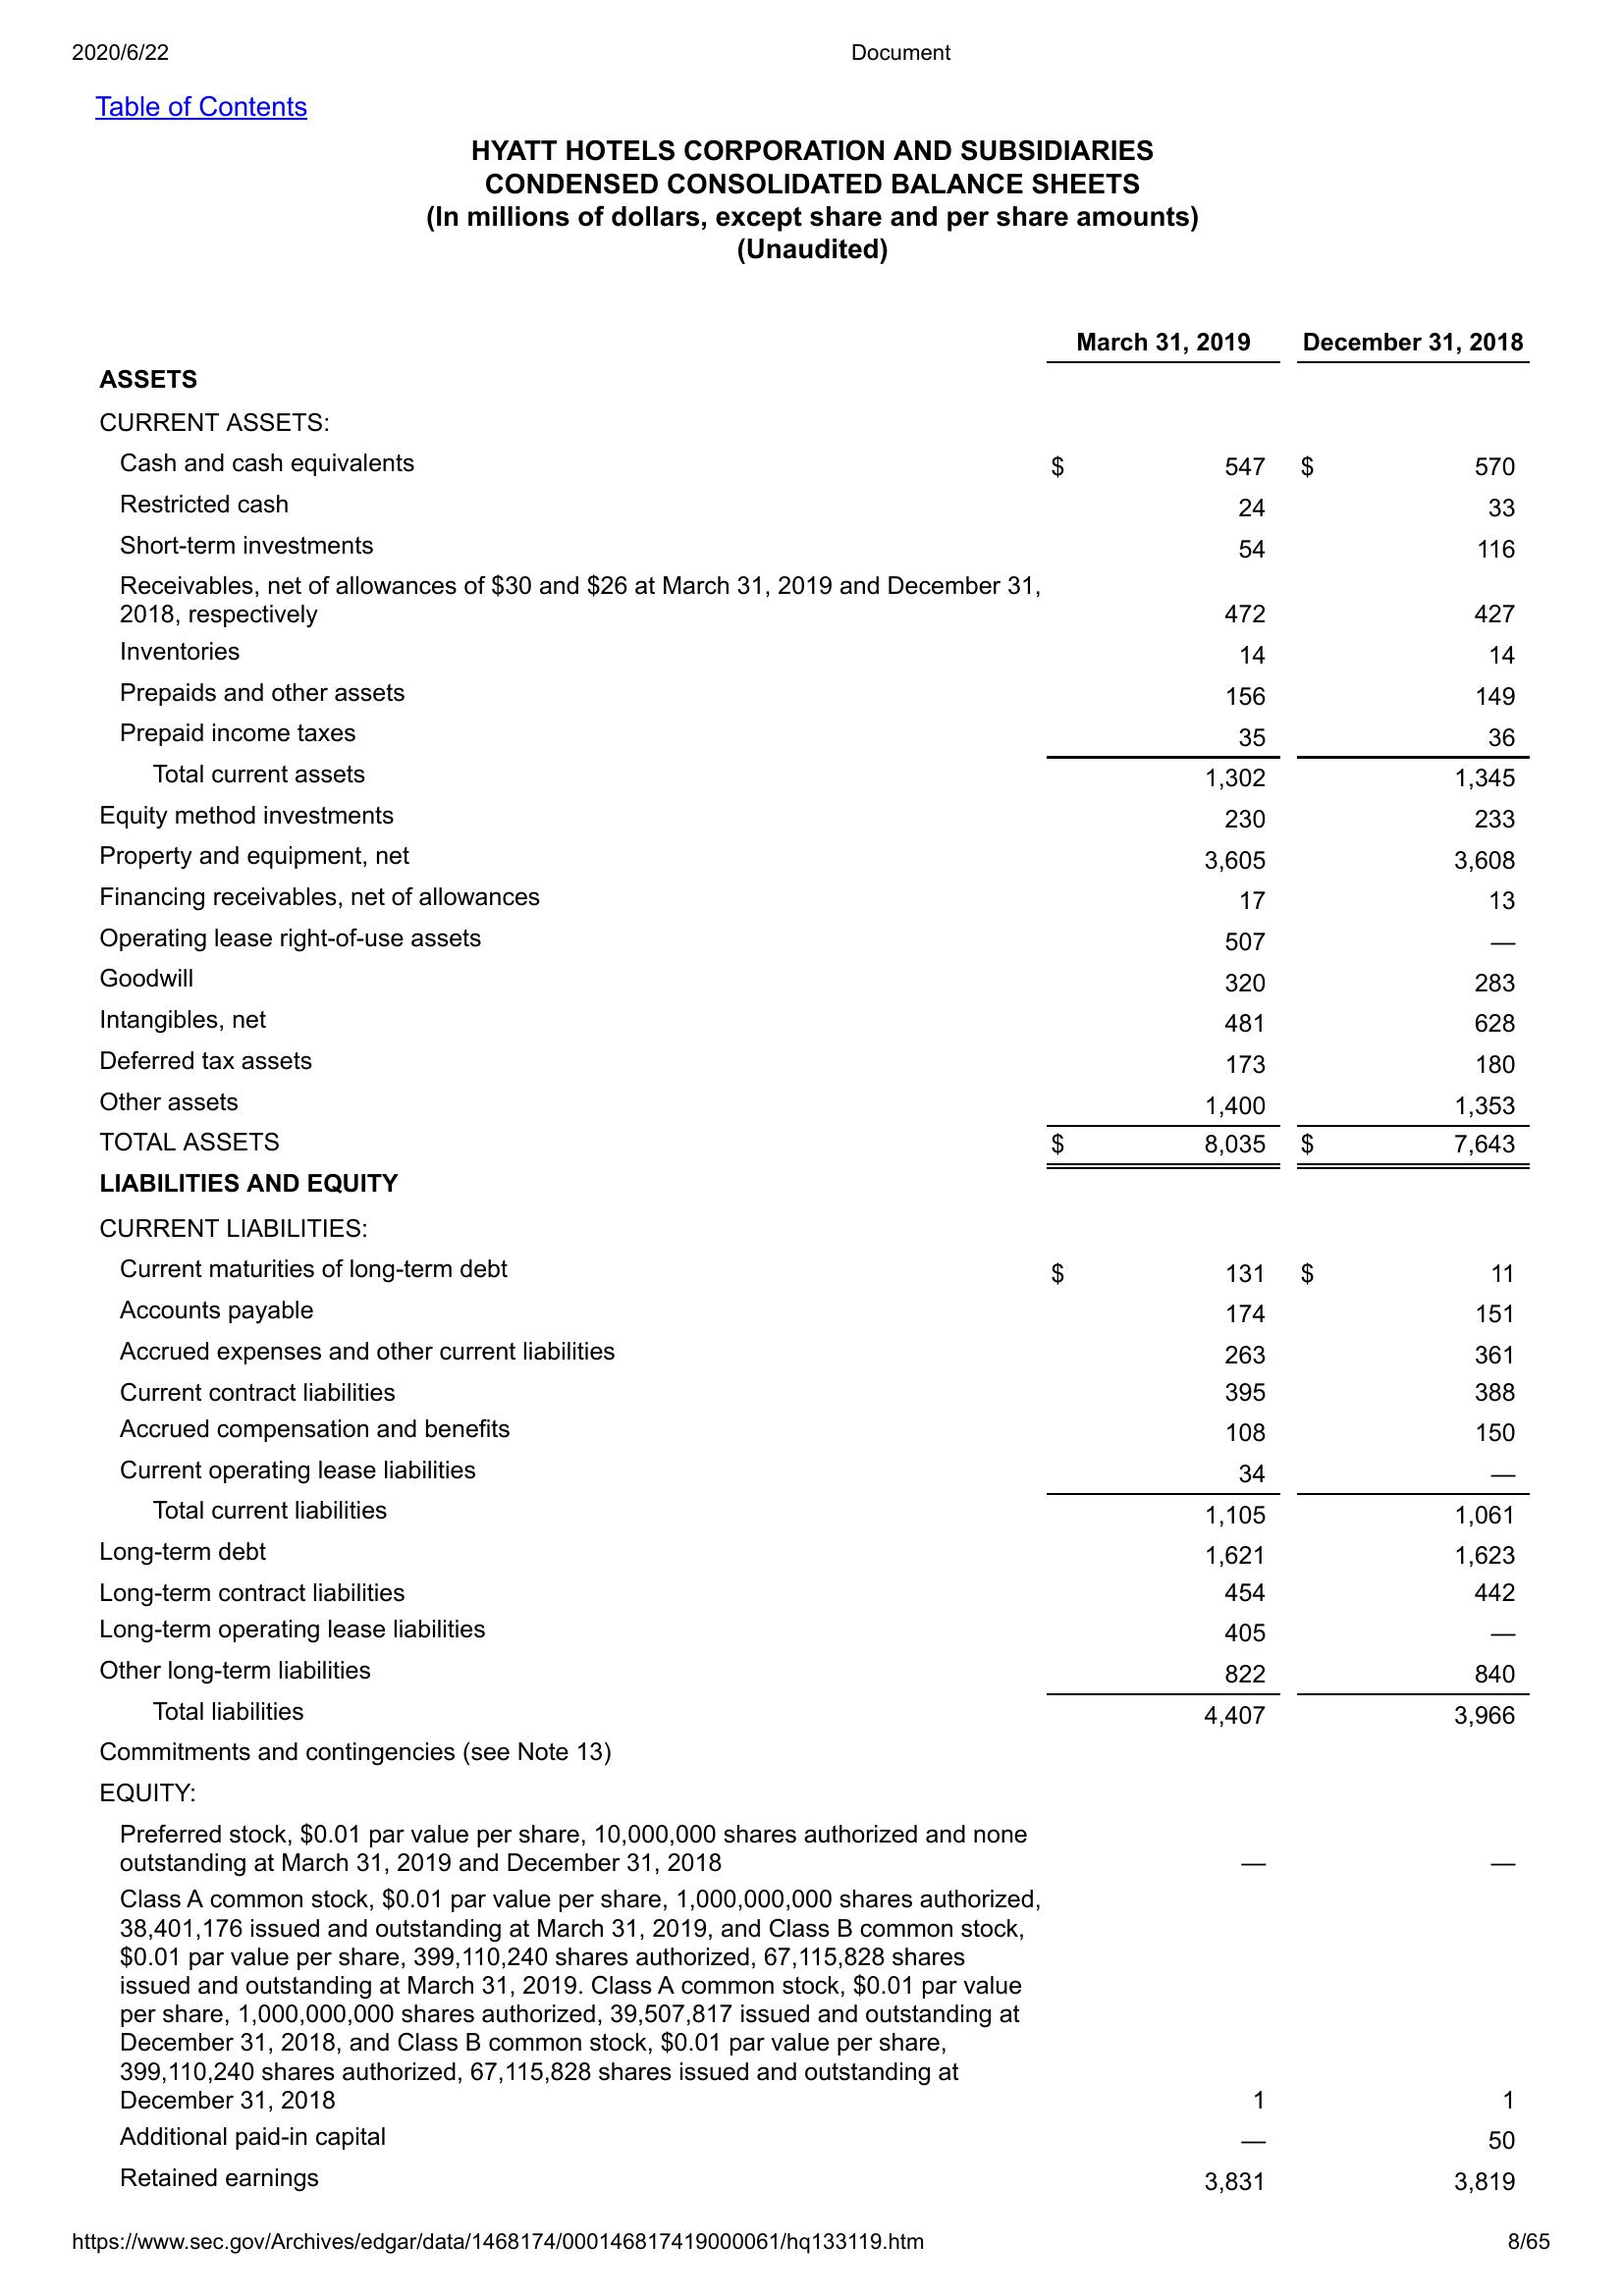table: (65, 321, 1535, 1748)
